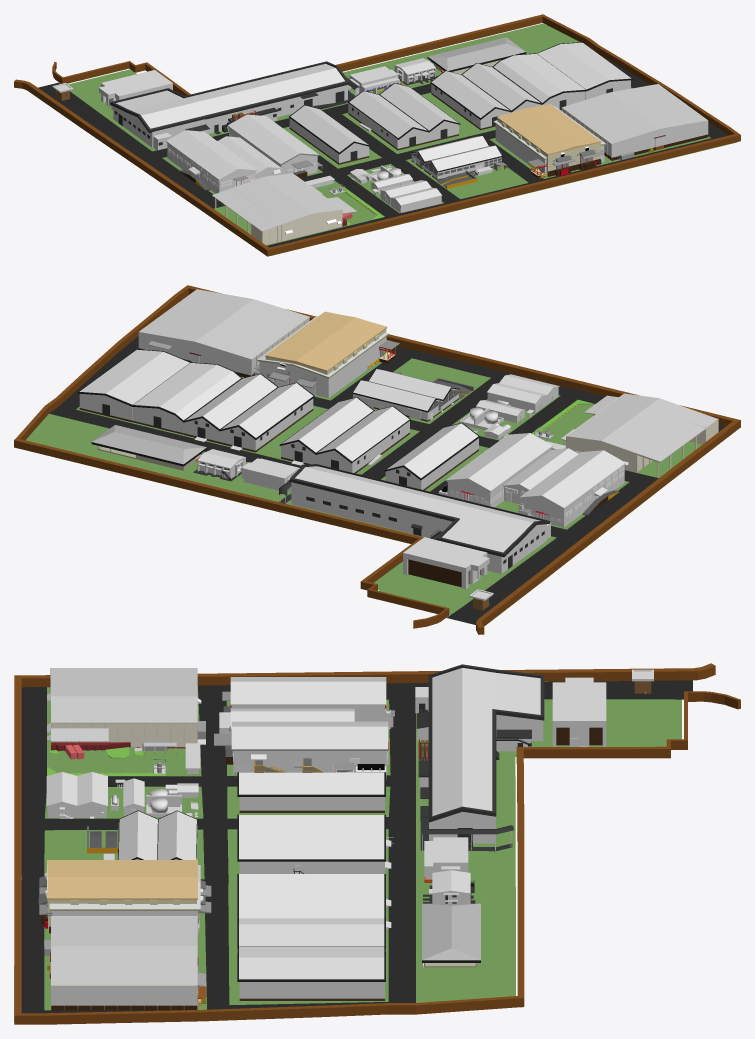
File: TrabajoProyectoARv25.fbx
3 renders of one model, top to bottom at view 1: azimuth 30°, elevation 25°; view 2: azimuth 150°, elevation 25°; view 3: azimuth 270°, elevation 25°, orthographic. The views are drawn at different scales.
Visible parts, largest first — view 1: Cube.277, Cesped, Carretera, Cube.014, Almacen8, techos, Cube.019, Cube.098, Cube.273, Cube.274, edificio 5frente a teco techo.002, edificio 1 frente a teco techo.003 (+22 smaller); view 2: Cube.277, Cesped, Carretera, techos, Almacen8, Cube.014, Cube.019, Cube.273, Cube.098, Cube.274, edificio 5frente a teco techo.002, Cube.360 (+22 smaller); view 3: Carretera, Cesped, Cube.277, Almacen8, techos, Cube.014, Cube.019, Cube.274, Cube.098, Cube.273, edificio 1 frente a teco techo.003, edificio 5frente a teco techo.002 (+20 smaller).
Part boxes in pixels (left/top/right/bottom): Cube.277: left=14, top=14, right=740, bottom=256; Cesped: left=68, top=23, right=737, bottom=255; Carretera: left=38, top=55, right=728, bottom=247; Cube.014: left=110, top=61, right=349, bottom=133; Almacen8: left=562, top=84, right=707, bottom=160; techos: left=348, top=63, right=542, bottom=139; Cube.019: left=233, top=173, right=342, bottom=240; Cube.098: left=496, top=104, right=601, bottom=176; Cube.273: left=166, top=130, right=257, bottom=193; Cube.274: left=227, top=114, right=319, bottom=174; edificio 5frente a teco techo.002: left=492, top=53, right=587, bottom=104; edificio 1 frente a teco techo.003: left=537, top=42, right=633, bottom=90; Cube.277: left=14, top=285, right=740, bottom=634; Cesped: left=26, top=358, right=702, bottom=614; Carretera: left=49, top=296, right=725, bottom=624; techos: left=183, top=373, right=410, bottom=463; Almacen8: left=139, top=289, right=308, bottom=377; Cube.014: left=289, top=464, right=549, bottom=557; Cube.019: left=566, top=393, right=693, bottom=472; Cube.273: left=519, top=450, right=625, bottom=527; Cube.098: left=265, top=311, right=387, bottom=374; Cube.274: left=445, top=433, right=552, bottom=507; edificio 5frente a teco techo.002: left=131, top=362, right=242, bottom=422; Cube.360: left=291, top=482, right=452, bottom=538; Carretera: left=21, top=680, right=692, bottom=1013; Cesped: left=14, top=681, right=681, bottom=1022; Cube.277: left=14, top=663, right=740, bottom=1024; Almacen8: left=51, top=916, right=197, bottom=1010; techos: left=237, top=814, right=385, bottom=918; Cube.014: left=428, top=664, right=544, bottom=822; Cube.019: left=51, top=679, right=197, bottom=747; Cube.274: left=231, top=721, right=388, bottom=774; Cube.098: left=41, top=860, right=197, bottom=931; Cube.273: left=230, top=677, right=386, bottom=721; edificio 1 frente a teco techo.003: left=237, top=946, right=385, bottom=981; edificio 5frente a teco techo.002: left=237, top=918, right=385, bottom=948.
Size of the model in its own units: 4672 by 327 by 4073.
